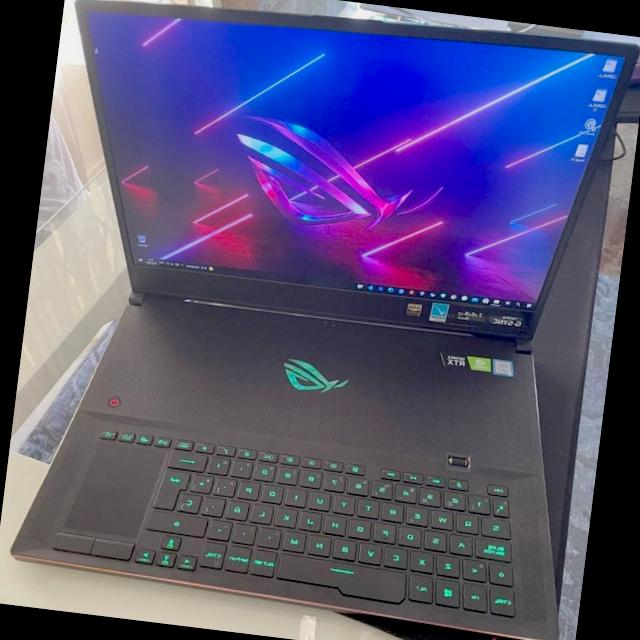laptop: (11, 0, 640, 626)
